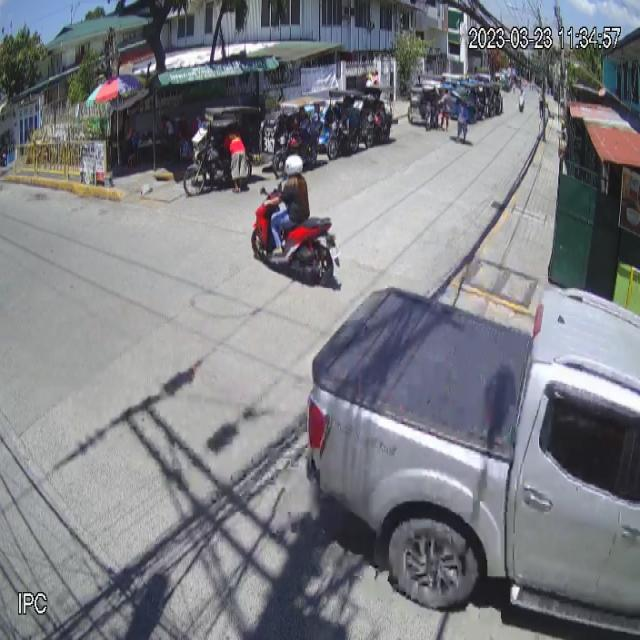Car: (308, 283, 640, 640)
Motorcycle: (251, 184, 342, 291)
